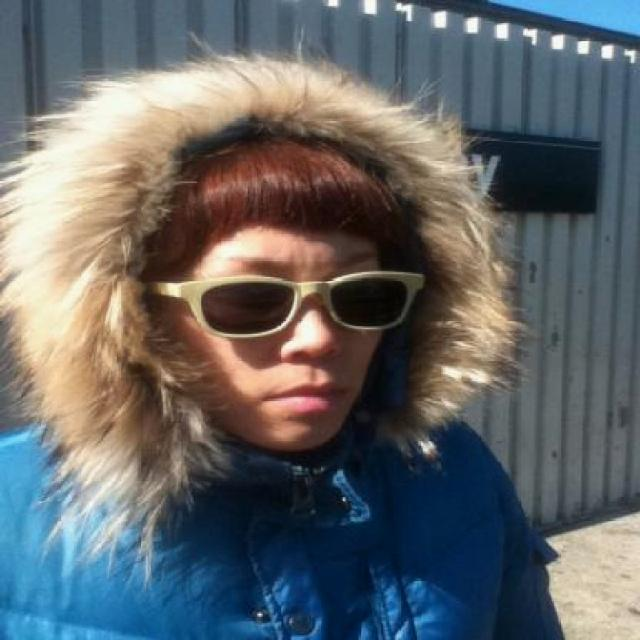face_nomask: (182, 260, 402, 428)
glasses: (142, 248, 424, 342)
head_nohelmet: (141, 106, 416, 256)
person: (7, 46, 536, 640)
